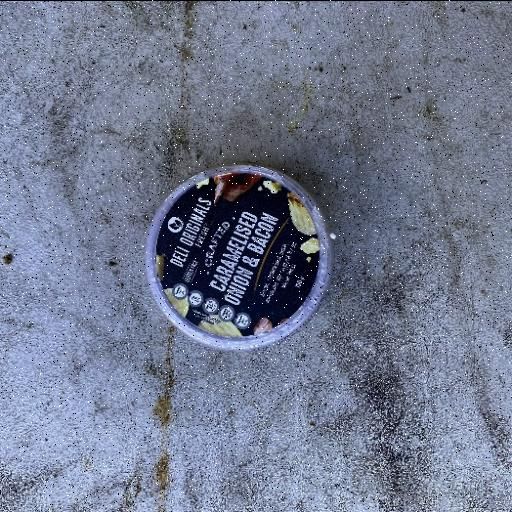Plastic: (144, 164, 332, 348)
